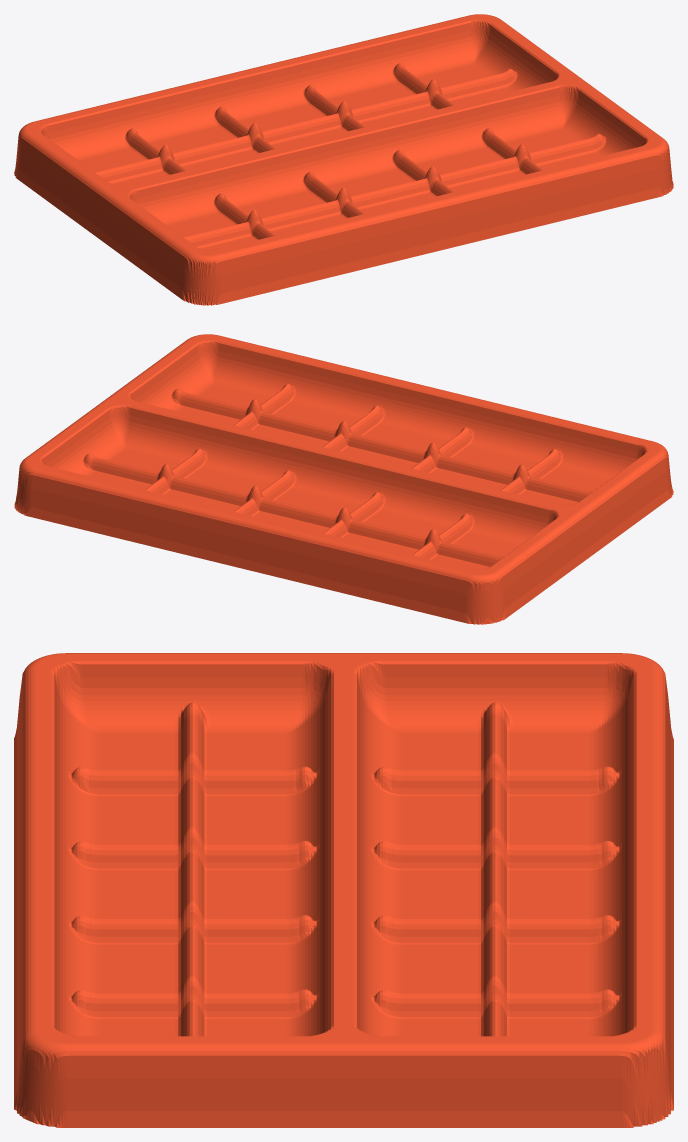
File: mold.glb
The picture shows the model from 3 angles, top to bottom: view 1: azimuth 30°, elevation 25°; view 2: azimuth 150°, elevation 25°; view 3: azimuth 270°, elevation 25°; orthographic projection. The views are drawn at different scales.
Parts seen in each view (by area): view 1: geometry_0; view 2: geometry_0; view 3: geometry_0.
Boxes of the visible parts, x1=… form: geometry_0: x1=14, y1=14, x2=673, y2=305; geometry_0: x1=14, y1=334, x2=673, y2=624; geometry_0: x1=14, y1=653, x2=673, y2=1127.
Size of the model in its own units: 0.167 by 0.0145 by 0.1145.
